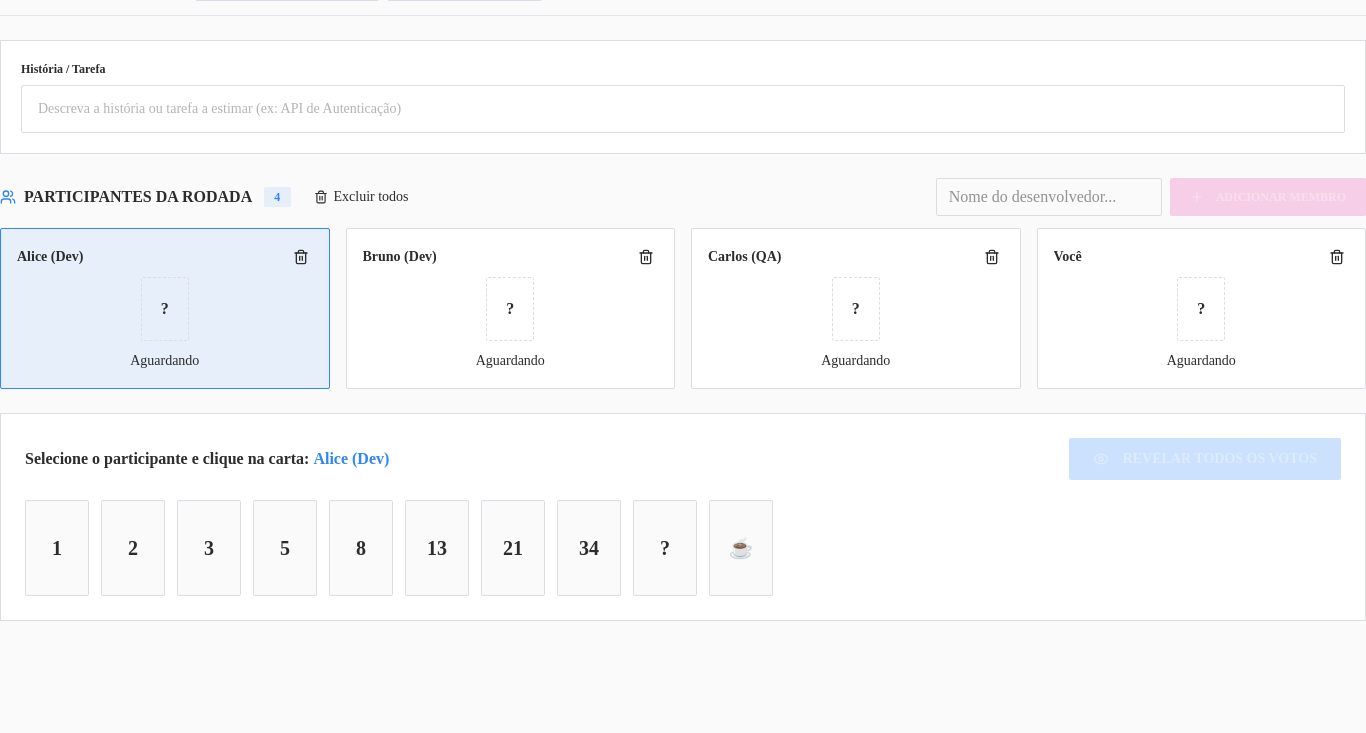
Agile Tools Integration Tests › PlanningPokerClient › saves estimated story to sprint backlog
Replace the text in the field with placeholder "Descreva a história ou tarefa a estimar" with "API de Notificações": [683, 109] box [21,85,1345,133]
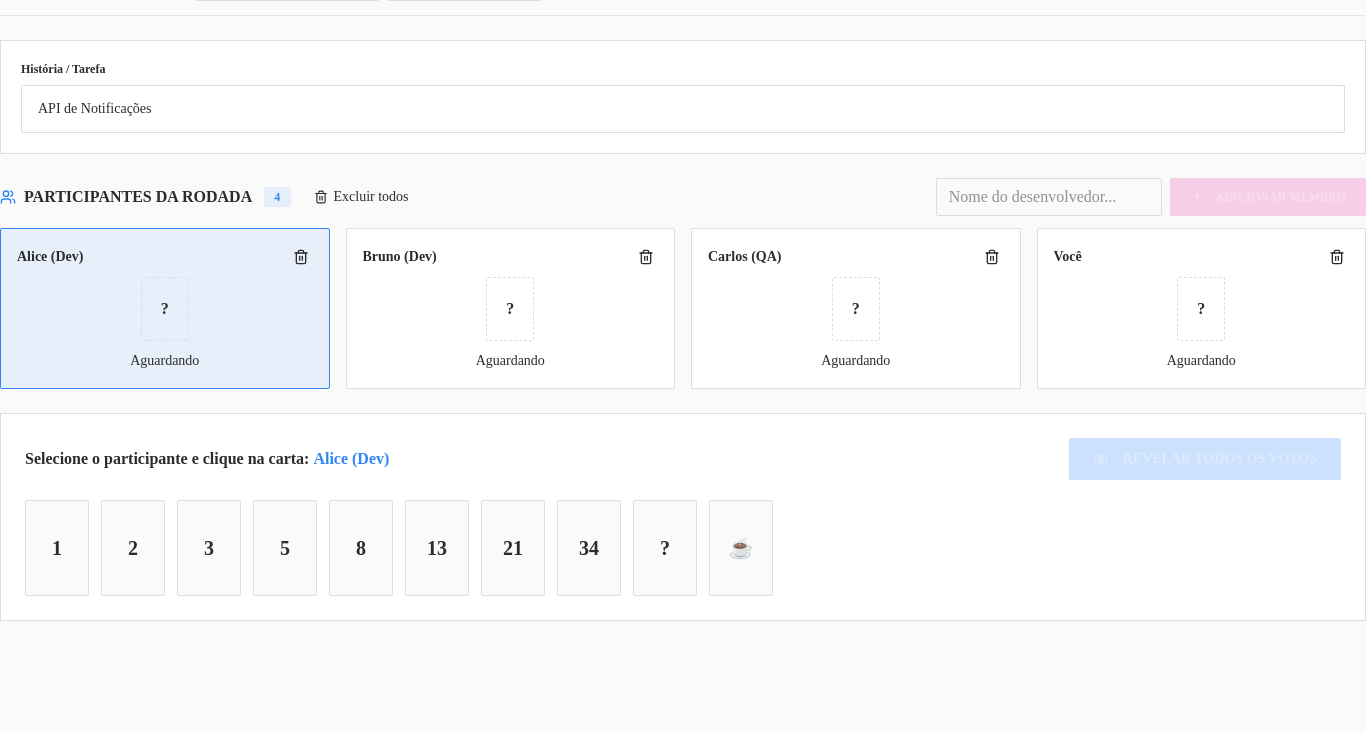
Click the button "3": [209, 548] box [177,500,241,596]
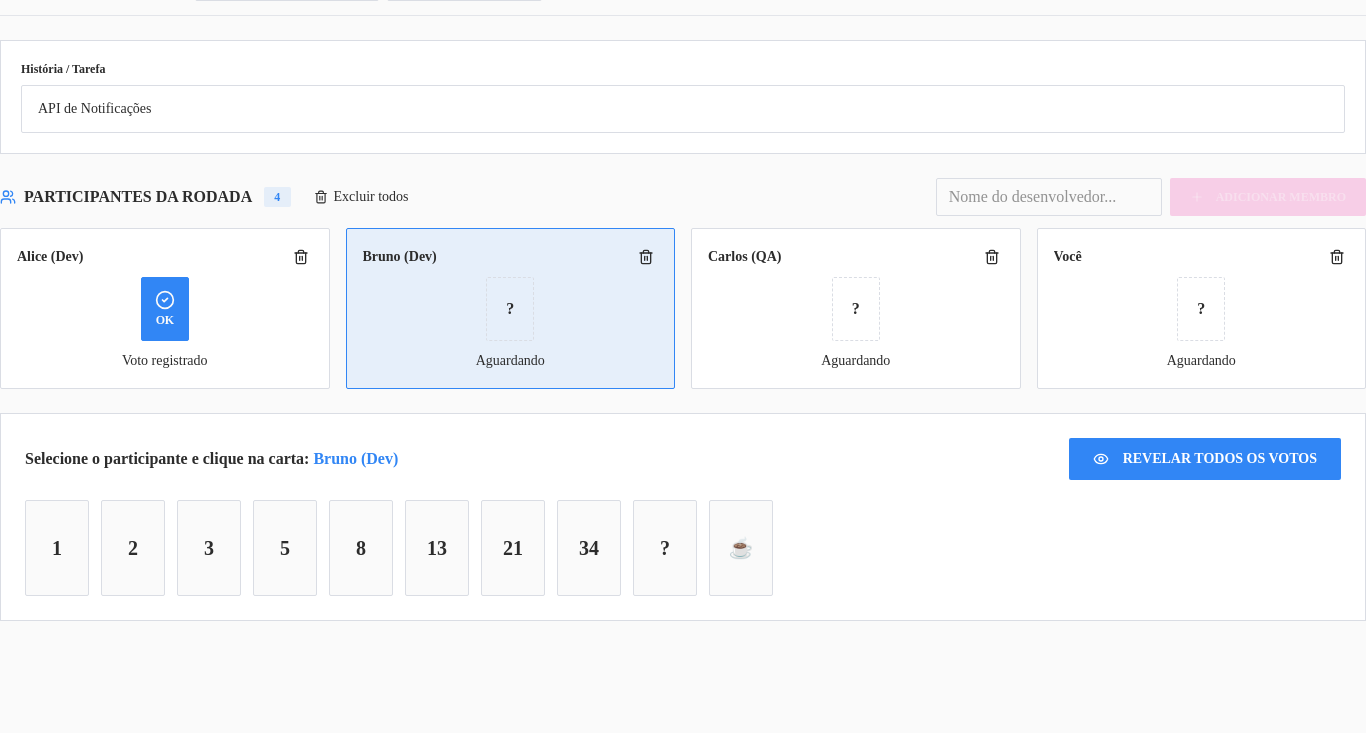
Click the button "Revelar Todos os Votos": [1205, 459] box [1069,438,1341,480]
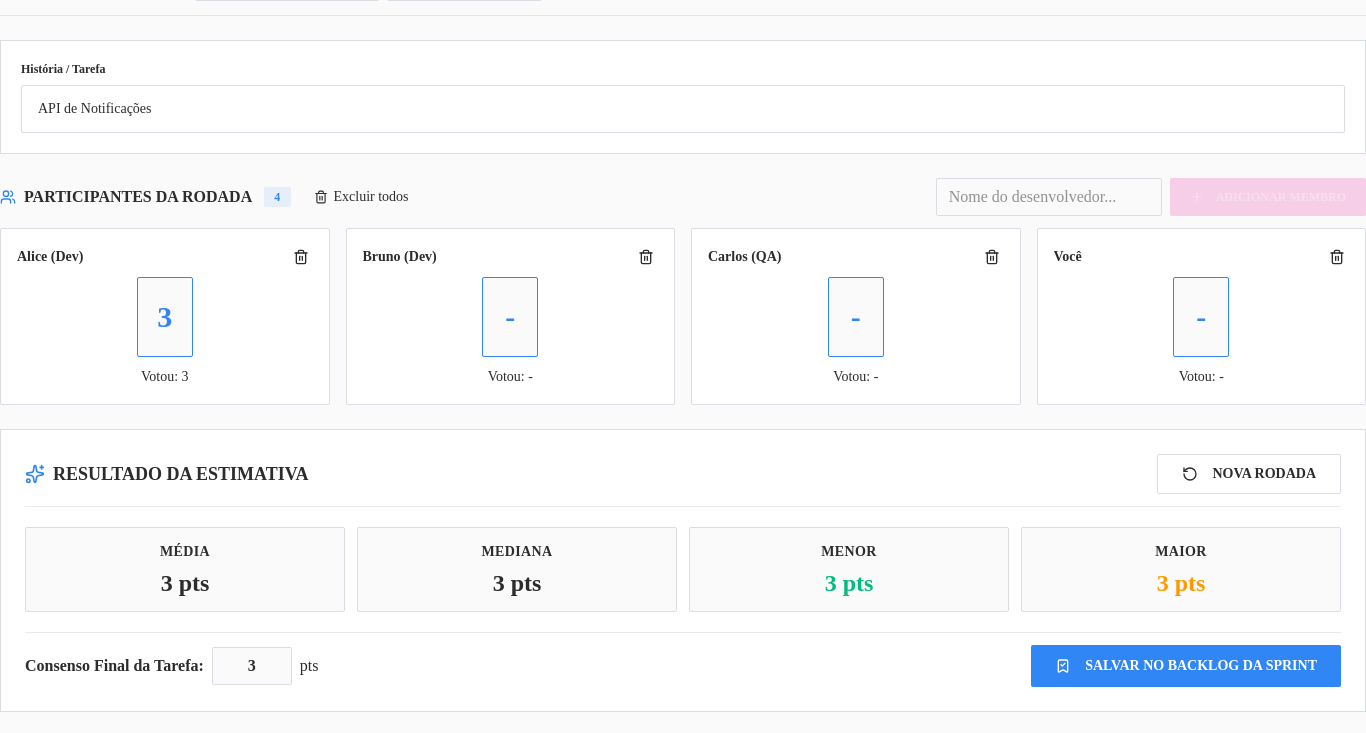
Click the button "Salvar no Backlog da Sprint": [1186, 666] box [1031,645,1341,687]
(page scrolled)
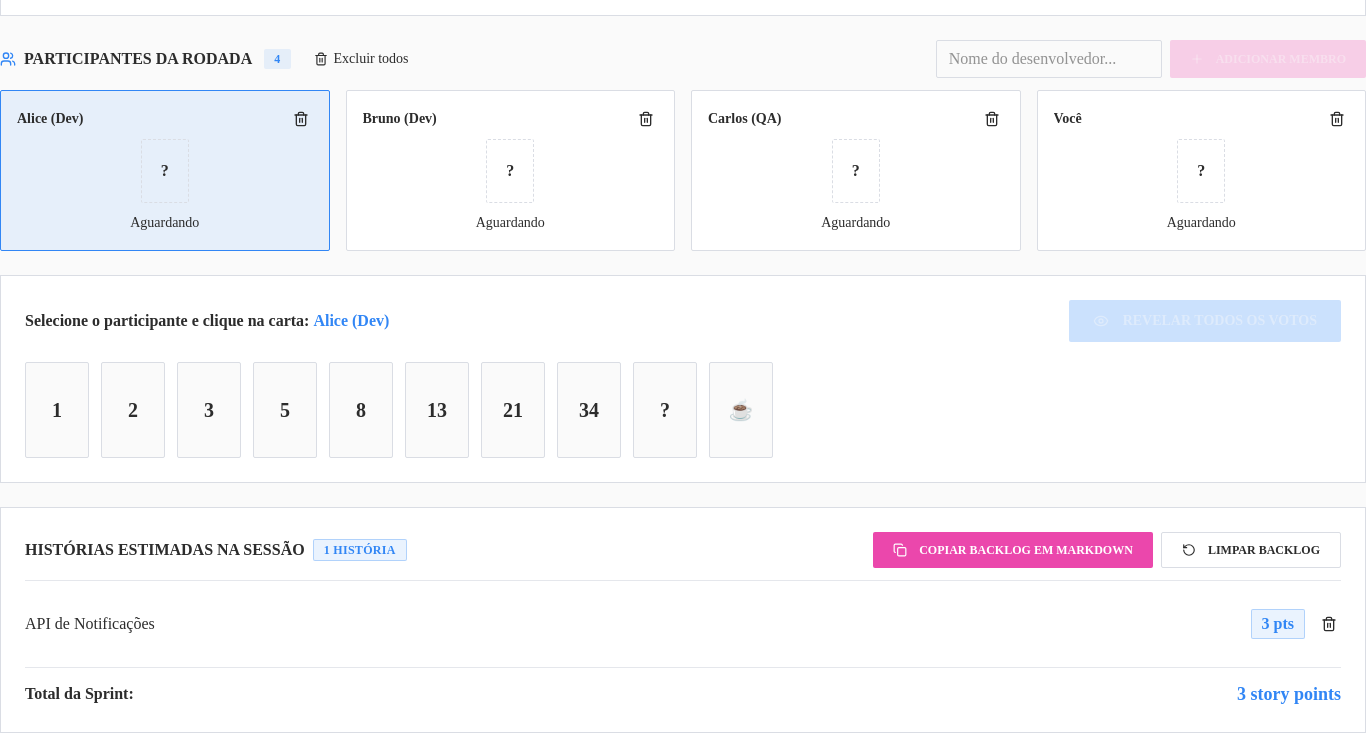
Result: the text "3 pts" is shown at [1250,609,1305,639]
Result: the heading "Histórias Estimadas na Sessão" is shown at [25,538,305,562]
Result: the text "API de Notificações" is shown at [25,612,155,636]
